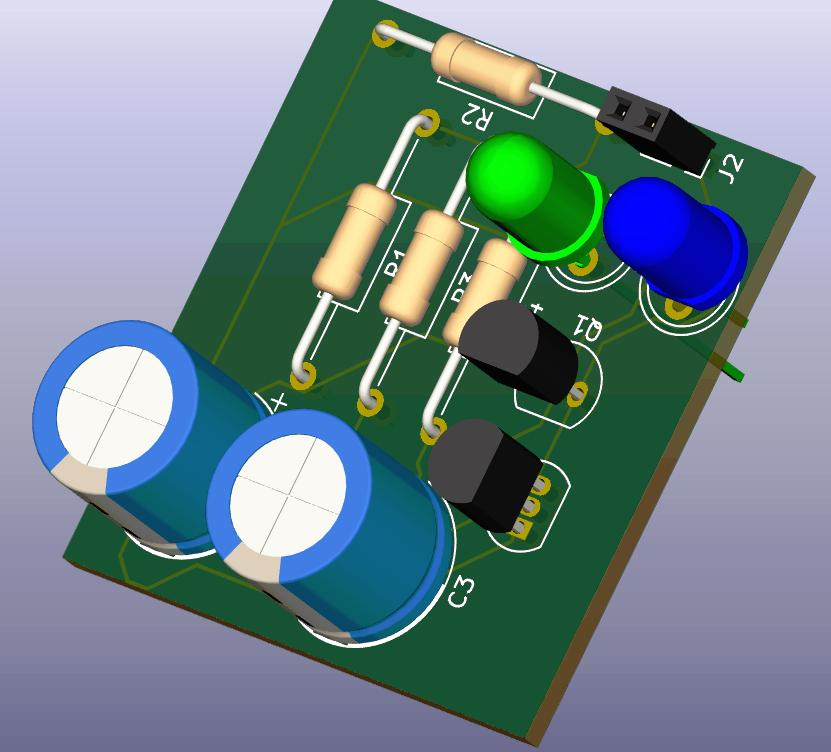blue_led: (611, 179, 747, 312)
capacitor: (205, 408, 459, 656), (34, 321, 279, 565)
green_led: (469, 135, 609, 279)
resistor: (306, 183, 398, 309), (425, 28, 549, 119), (439, 237, 522, 350), (379, 210, 452, 317)
transistor: (427, 412, 544, 545), (458, 297, 578, 401)
